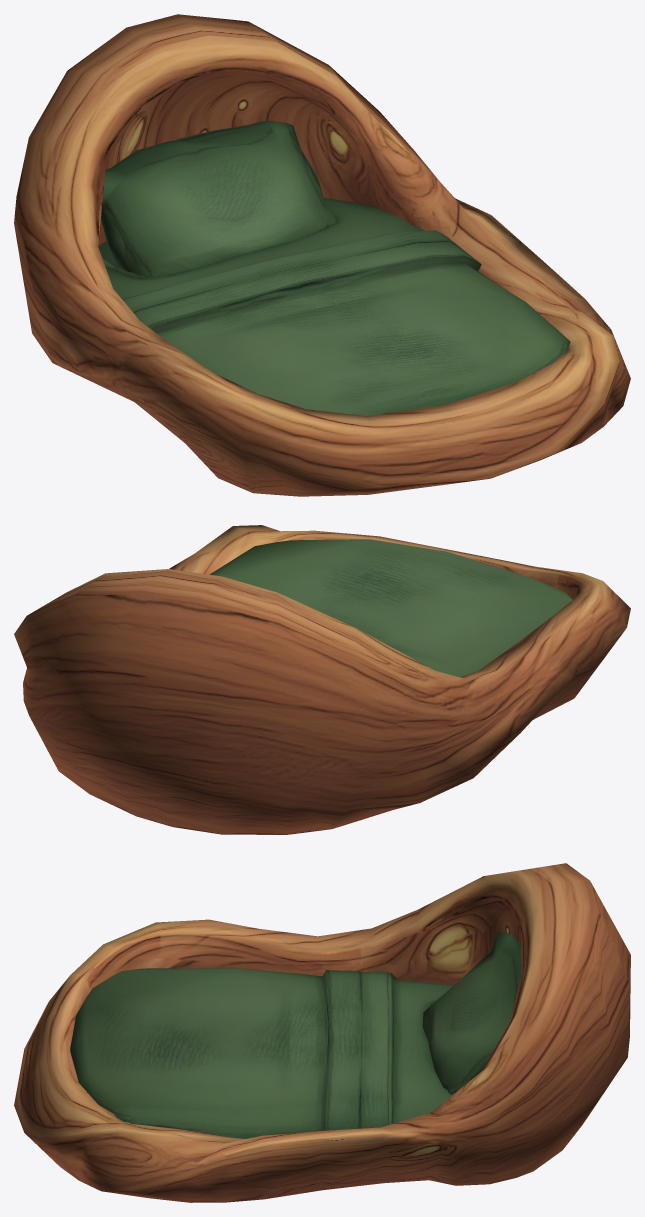
File: HumanBed.glb
3 views of the same model, one above another, from view 1: azimuth 30°, elevation 25°; view 2: azimuth 150°, elevation 25°; view 3: azimuth 270°, elevation 25° (orthographic). The views are drawn at different scales.
Visible parts, largest first — view 1: HumanBed; view 2: HumanBed; view 3: HumanBed.
Boxes of the visible parts, x1,y1,x2,y2 form: HumanBed: (14, 14, 630, 496); HumanBed: (14, 525, 630, 834); HumanBed: (14, 863, 630, 1202).
Size of what is drawn, in the model's own units: 2.09 by 1.04 by 2.69.
Materials: 1 (1 with a texture image).
